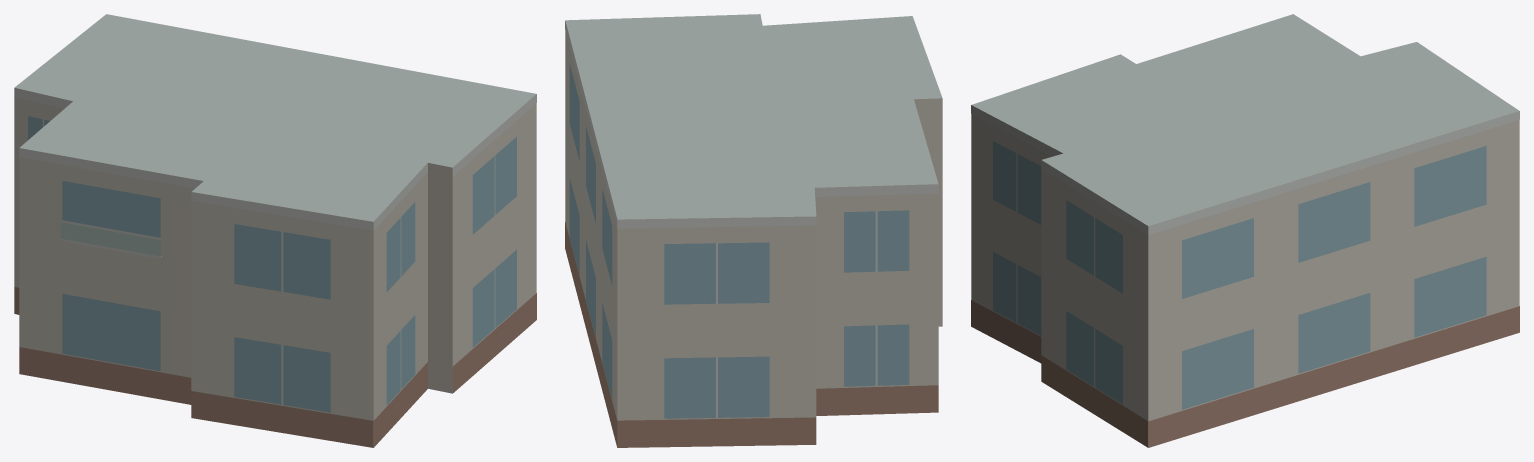
File: survey-upis-32754050.glb
3 views of the same model, side by side, from view 1: azimuth 30°, elevation 25°; view 2: azimuth 150°, elevation 25°; view 3: azimuth 270°, elevation 25° (orthographic). The views are drawn at different scales.
Visible parts, largest first — view 1: survey-upis-32754050.tmp; view 2: survey-upis-32754050.tmp; view 3: survey-upis-32754050.tmp.
Boxes of the visible parts, x1,y1,x2,y2 form: survey-upis-32754050.tmp: [14, 14, 536, 447]; survey-upis-32754050.tmp: [565, 14, 942, 447]; survey-upis-32754050.tmp: [971, 14, 1519, 447].
Size of the model in its own units: 12.54 by 6.1 by 13.69.
